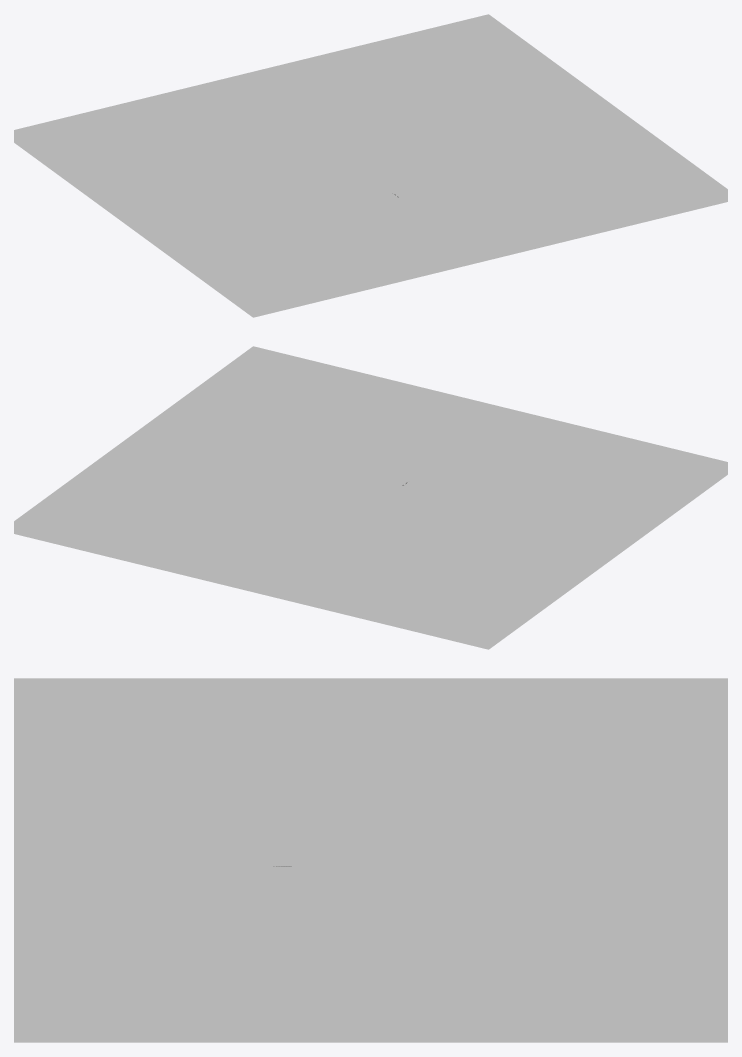
The model's file is penbay_open.dae.
The picture shows the model from 3 angles, top to bottom: view 1: azimuth 30°, elevation 25°; view 2: azimuth 150°, elevation 25°; view 3: azimuth 270°, elevation 25°; orthographic projection. The views are drawn at different scales.
Visible parts, largest first — view 1: field, wall, road, il, ol; view 2: field, wall, road, il, ol; view 3: field, wall, road, il, ol.
Part boxes in pixels (left/top/right/bottom): field: left=27, top=27, right=714, bottom=304; wall: left=14, top=14, right=727, bottom=317; road: left=239, top=128, right=517, bottom=237; il: left=238, top=127, right=518, bottom=237; ol: left=252, top=133, right=505, bottom=231; field: left=27, top=359, right=714, bottom=636; wall: left=14, top=346, right=727, bottom=649; road: left=255, top=455, right=538, bottom=560; il: left=254, top=454, right=539, bottom=561; ol: left=268, top=460, right=525, bottom=555; field: left=14, top=697, right=727, bottom=1023; wall: left=14, top=678, right=727, bottom=1042; road: left=205, top=778, right=536, bottom=961; il: left=204, top=777, right=537, bottom=962; ol: left=224, top=786, right=517, bottom=953.
Size of the model in its own units: 39.34 by 34.34 by 1.
